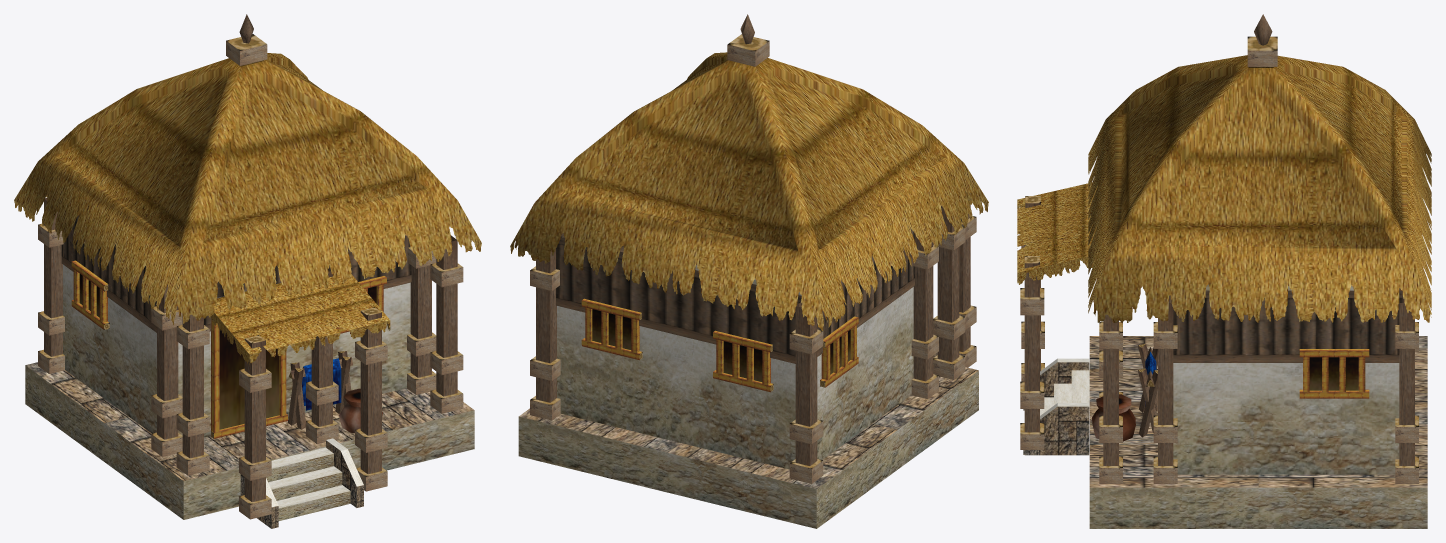
File: house_4.dae
The picture shows the model from 3 angles, left to right: view 1: azimuth 30°, elevation 25°; view 2: azimuth 150°, elevation 25°; view 3: azimuth 270°, elevation 25°; orthographic projection. The views are drawn at different scales.
Parts seen in each view (by area): view 1: house_4; view 2: house_4; view 3: house_4.
Boxes of the visible parts, x1,y1,x2,y2 form: house_4: (14,14,481,528); house_4: (510,14,988,528); house_4: (1017,14,1431,528).
Size of the model in its own units: 10.69 by 11.73 by 13.7.
Materials: 1 (1 with a texture image).
